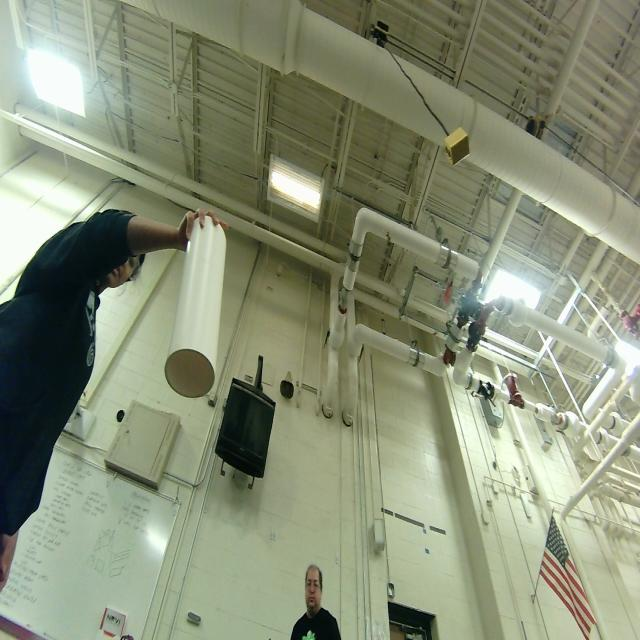coral: (164, 215, 227, 398)
